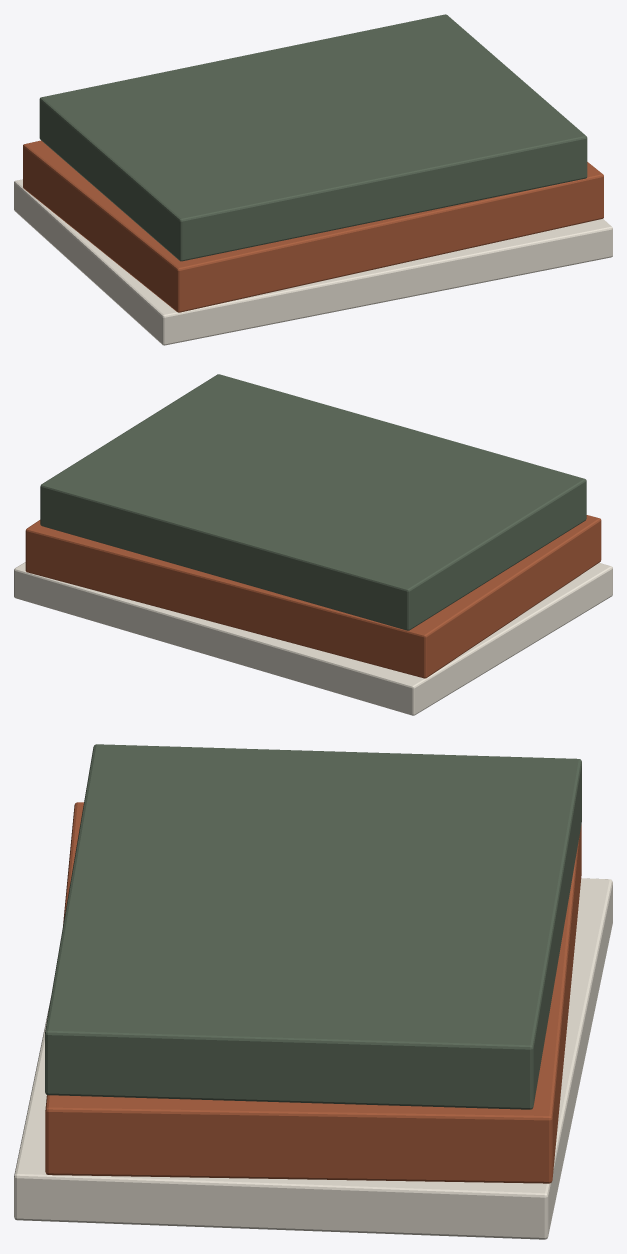
File: decor__9.glb
3 renders of one model, top to bottom at view 1: azimuth 30°, elevation 25°; view 2: azimuth 150°, elevation 25°; view 3: azimuth 270°, elevation 25°, orthographic. The views are drawn at different scales.
Parts seen in each view (by area): view 1: book.002, book.001, book; view 2: book.002, book.001, book; view 3: book.002, book.001, book.
Boxes of the visible parts, x1,y1,x2,y2 form: book.002: [39, 14, 587, 261]; book.001: [23, 140, 603, 312]; book: [14, 179, 612, 345]; book.002: [40, 374, 586, 630]; book.001: [25, 515, 601, 678]; book: [14, 562, 612, 715]; book.002: [45, 744, 581, 1109]; book.001: [45, 802, 581, 1183]; book: [14, 878, 612, 1239].
Bounding box in the file's own units: 0.2928 × 0.0723 × 0.2205.
